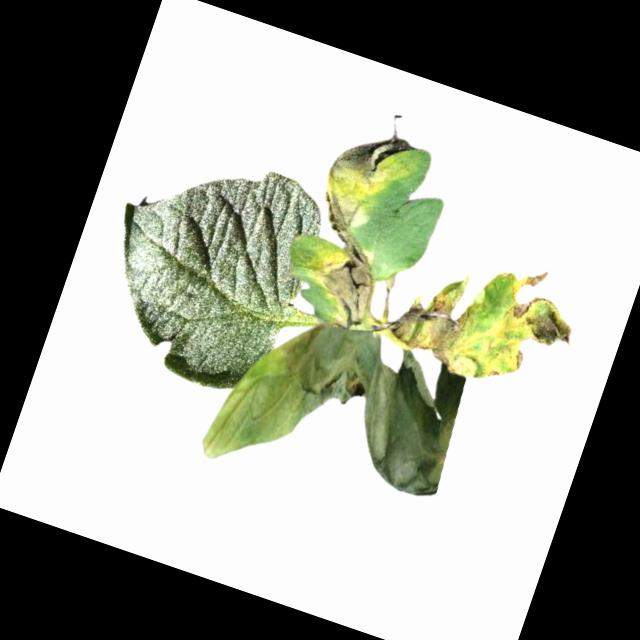Late_blight: (196, 293, 478, 532), (379, 227, 594, 408), (310, 118, 425, 253), (299, 234, 387, 329)
healthy: (76, 128, 332, 405)
